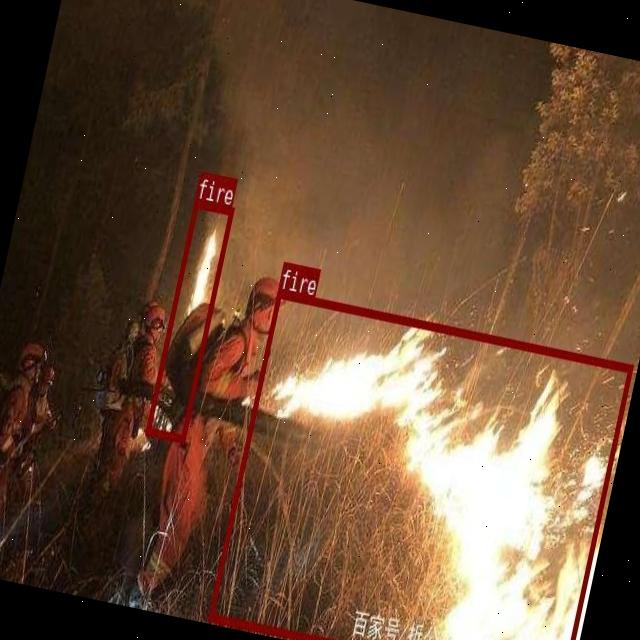fire: (206, 288, 631, 640), (144, 197, 234, 440)
